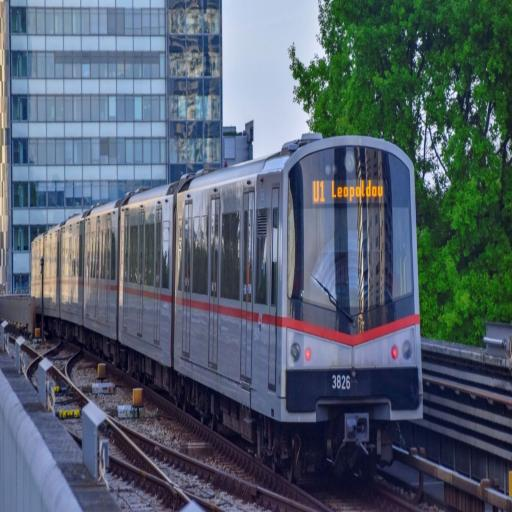V-Wagen: (32, 123, 426, 445)
